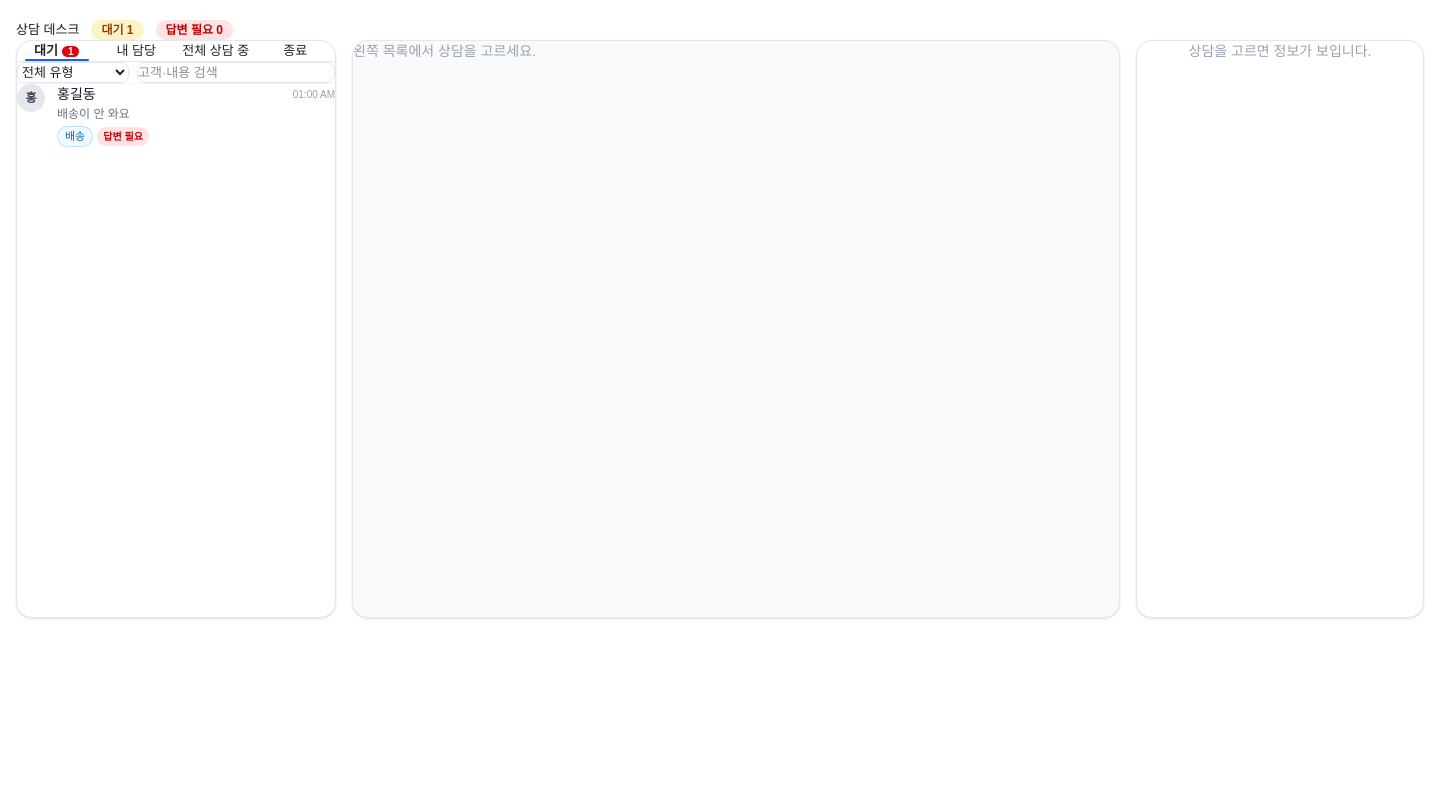
Scenario: Desk — 상담 데스크 › 탭을 바꾸면 그 목록을 읽는다
Click the tab "내 담당".
click(136, 51)  # box [96,41,176,60]
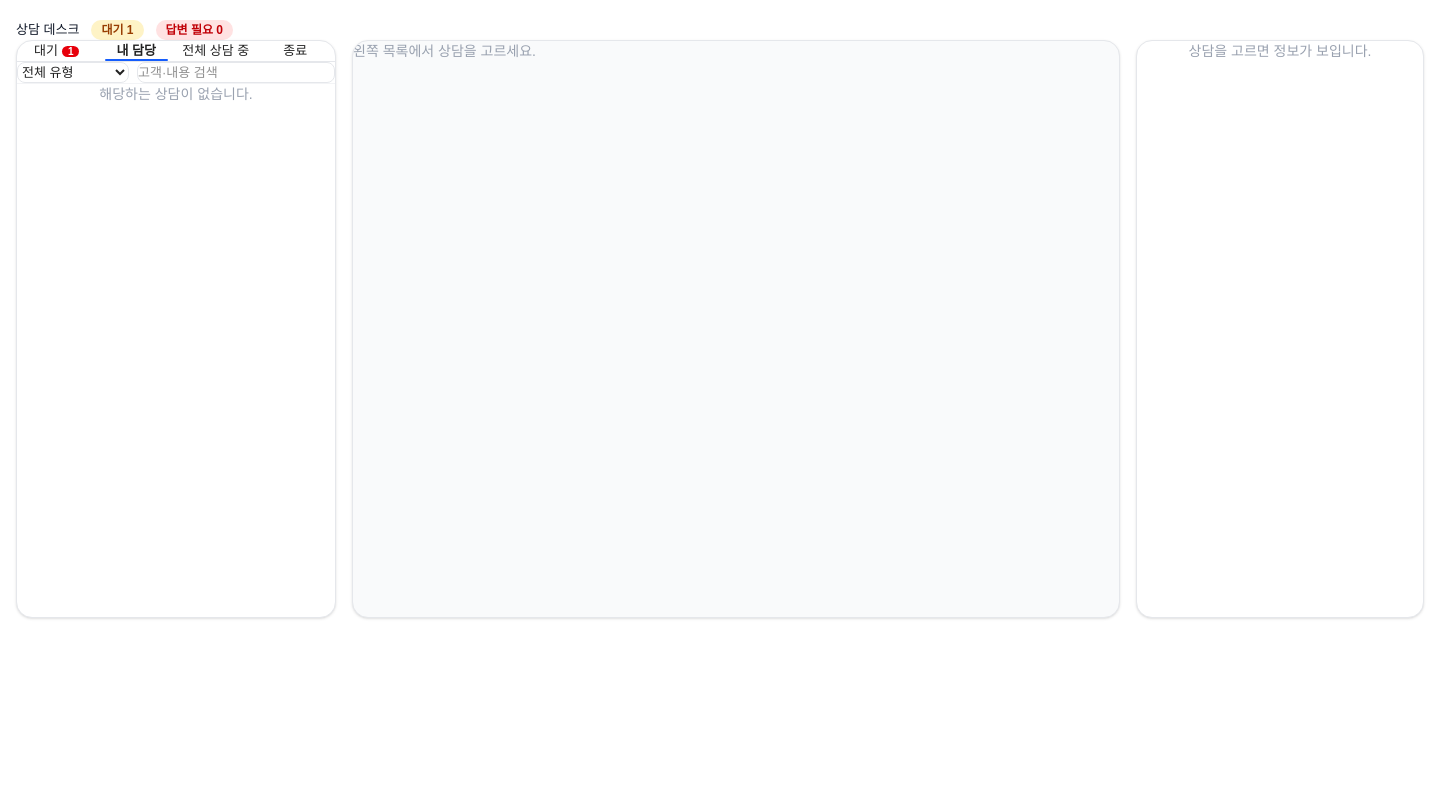
Expected: the list item "해당하는 상담이 없습니다." is shown, [99,86,253,102]
